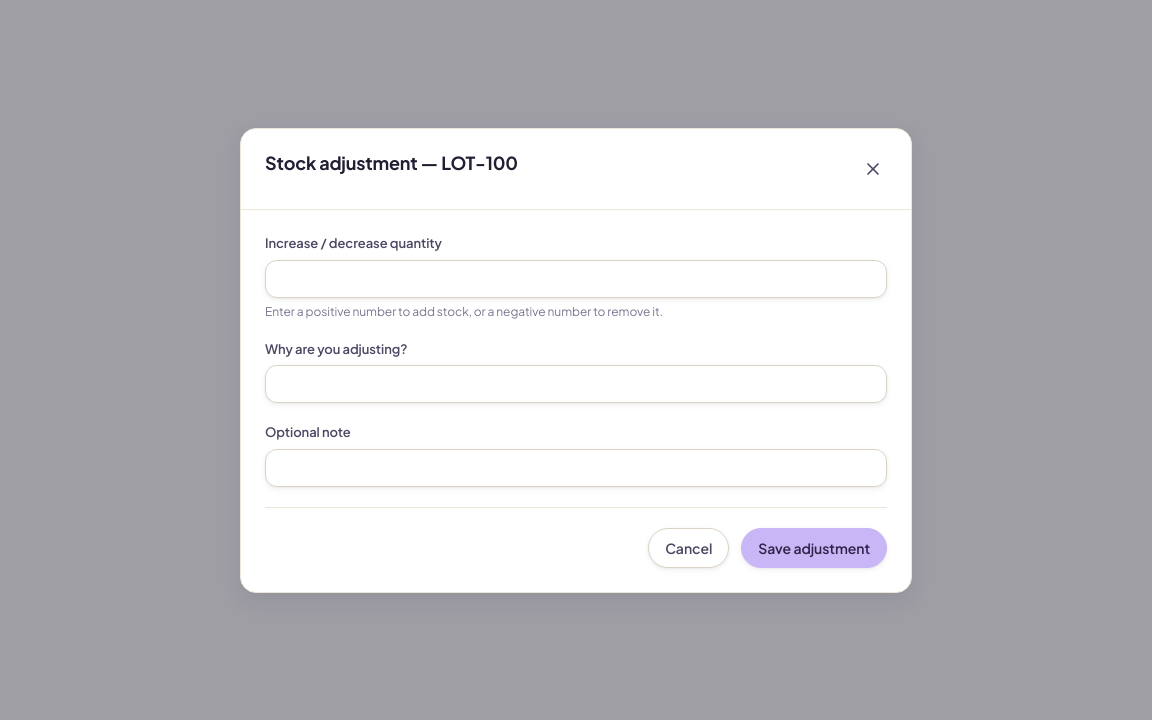
AdjustBatchModal › blocks zero delta
Type "0" into the number field labelled "Increase / decrease quantity".
click(576, 278); type("0")  # box [265,259,887,297]
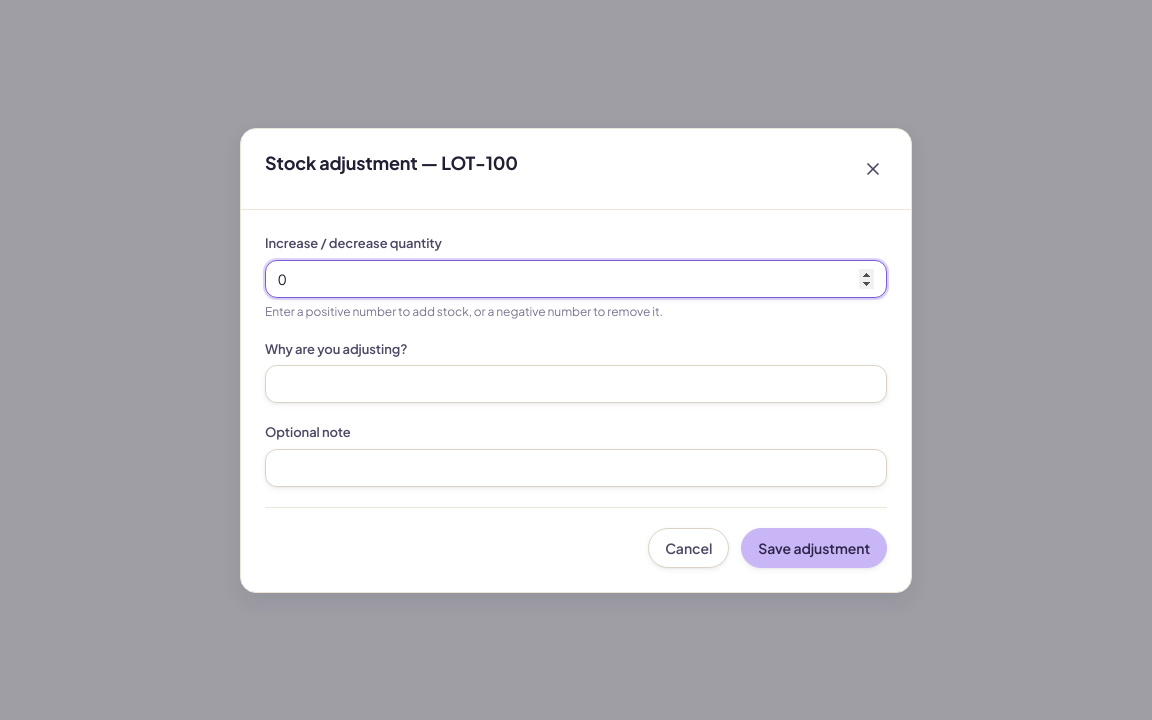
Type "Damaged stock" into the field labelled "Why are you adjusting?".
click(576, 384); type("Damaged stock")  # box [265,365,887,403]
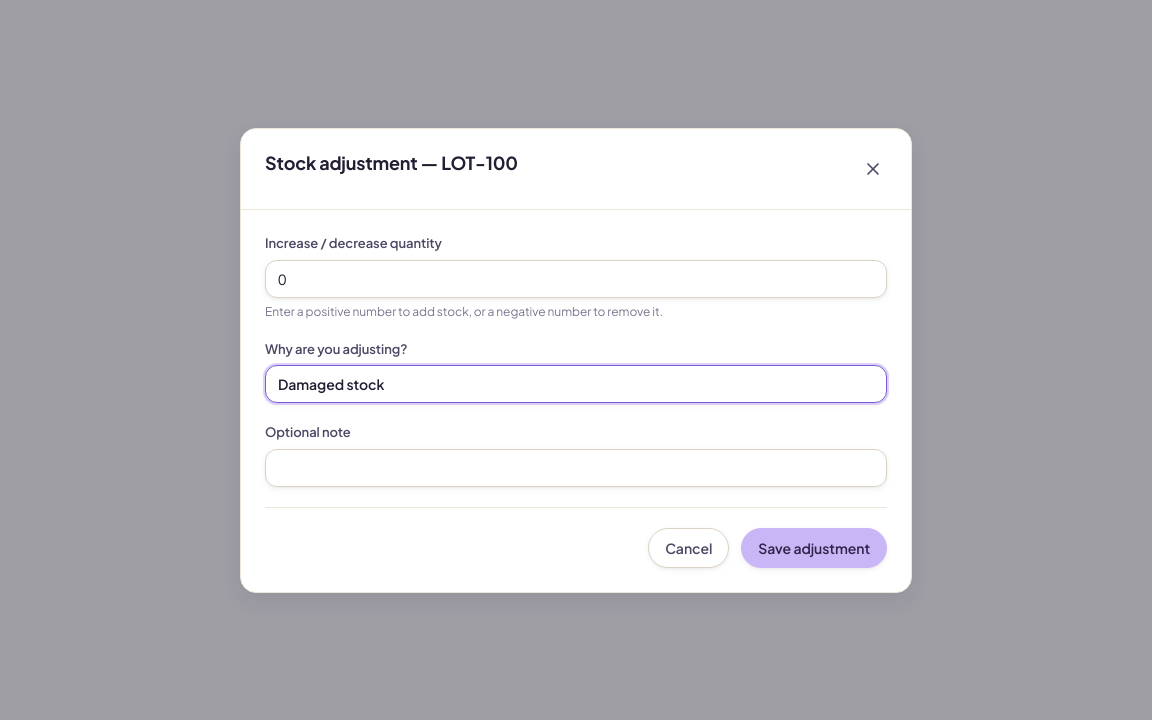
Click the button "Save adjustment".
click(814, 547)  # box [741,527,887,567]
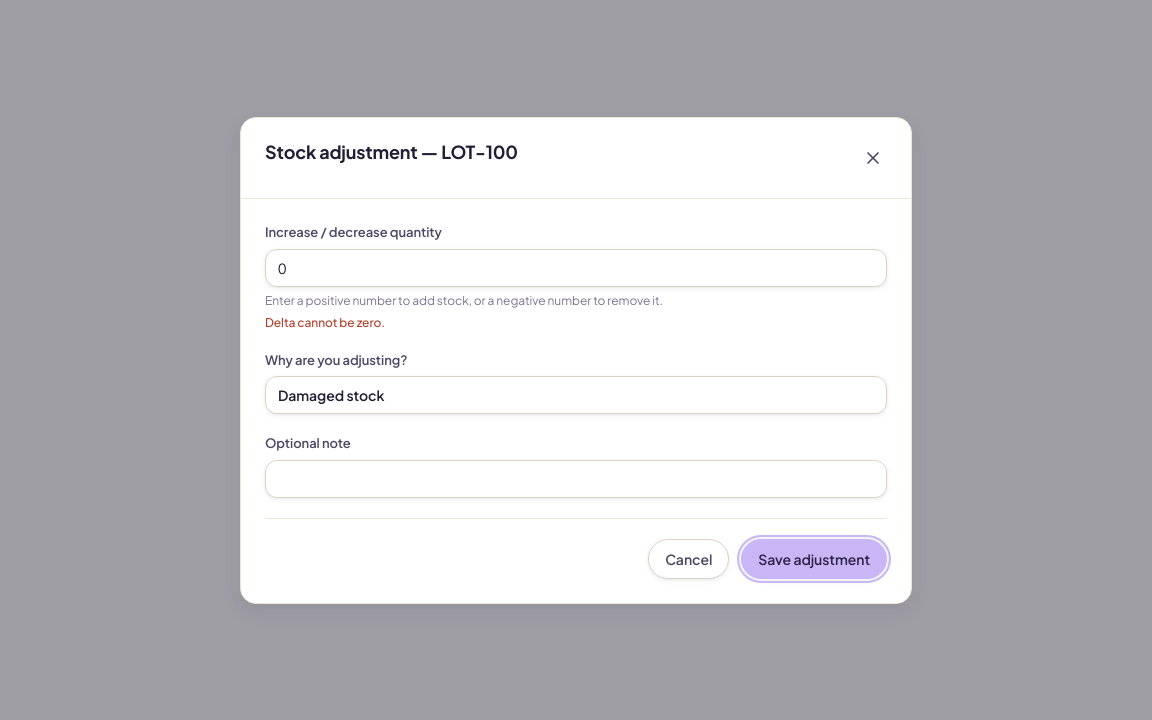
Expected: the list item "Delta cannot be zero." is shown, [265,314,385,329]
